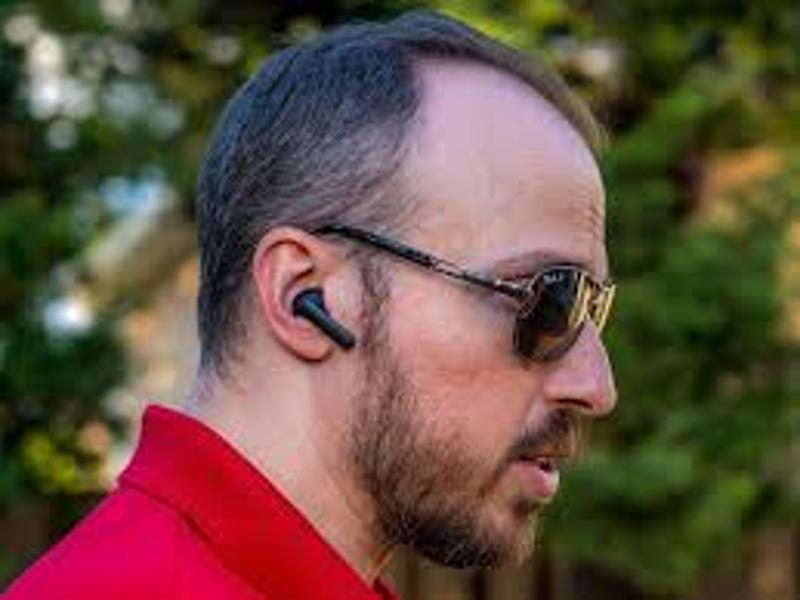headphone: (290, 284, 356, 351)
